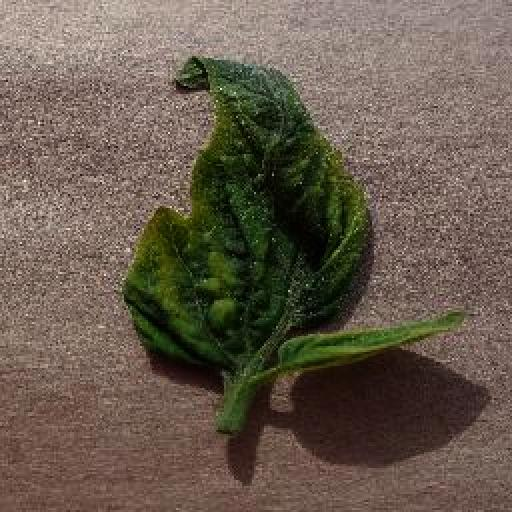disease_tomato: (124, 54, 368, 368)
